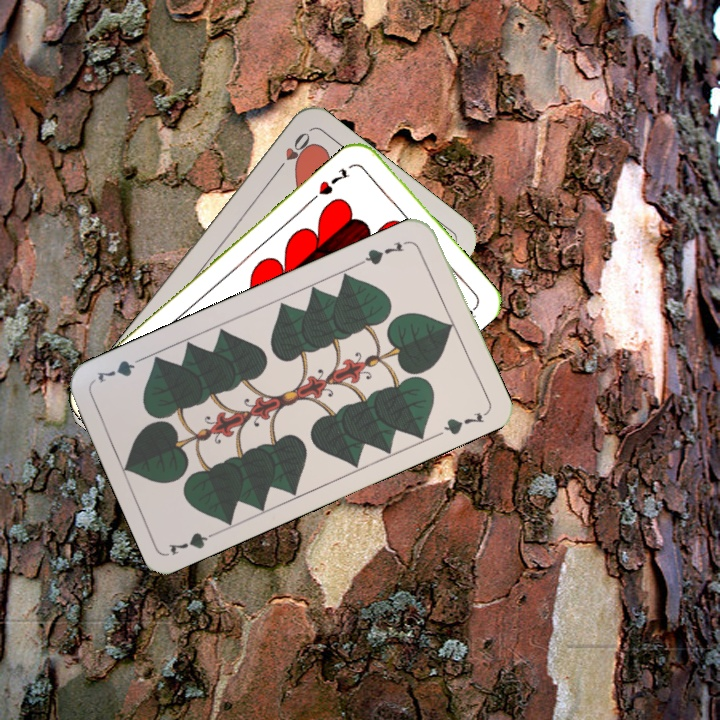G7: (164, 526, 223, 558), (357, 236, 413, 268)
H7: (307, 164, 353, 204)
HO: (270, 127, 313, 178)
